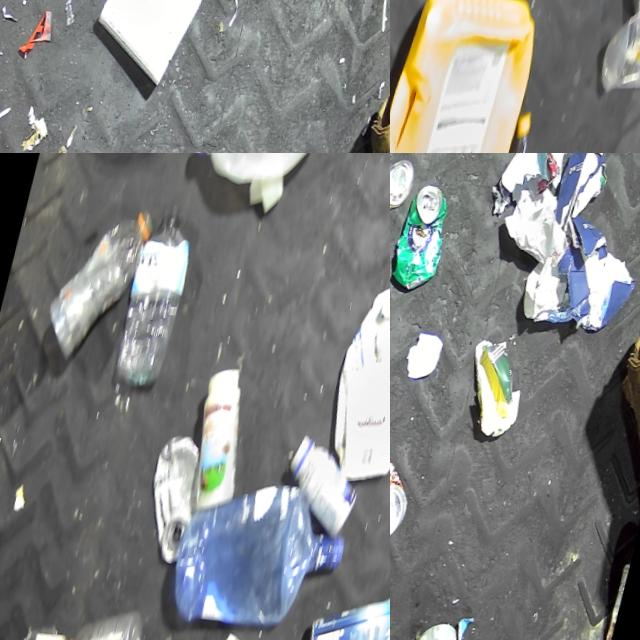can: (135, 428, 216, 568), (390, 179, 458, 294), (304, 579, 390, 640), (390, 451, 421, 546), (603, 556, 634, 640), (390, 155, 418, 209), (407, 619, 468, 640)
milk_jug: (316, 267, 390, 490), (184, 153, 325, 198)
non_white_jug: (390, 0, 551, 153)
plastic_bottle: (36, 191, 160, 371), (109, 199, 205, 392), (504, 108, 560, 153)
